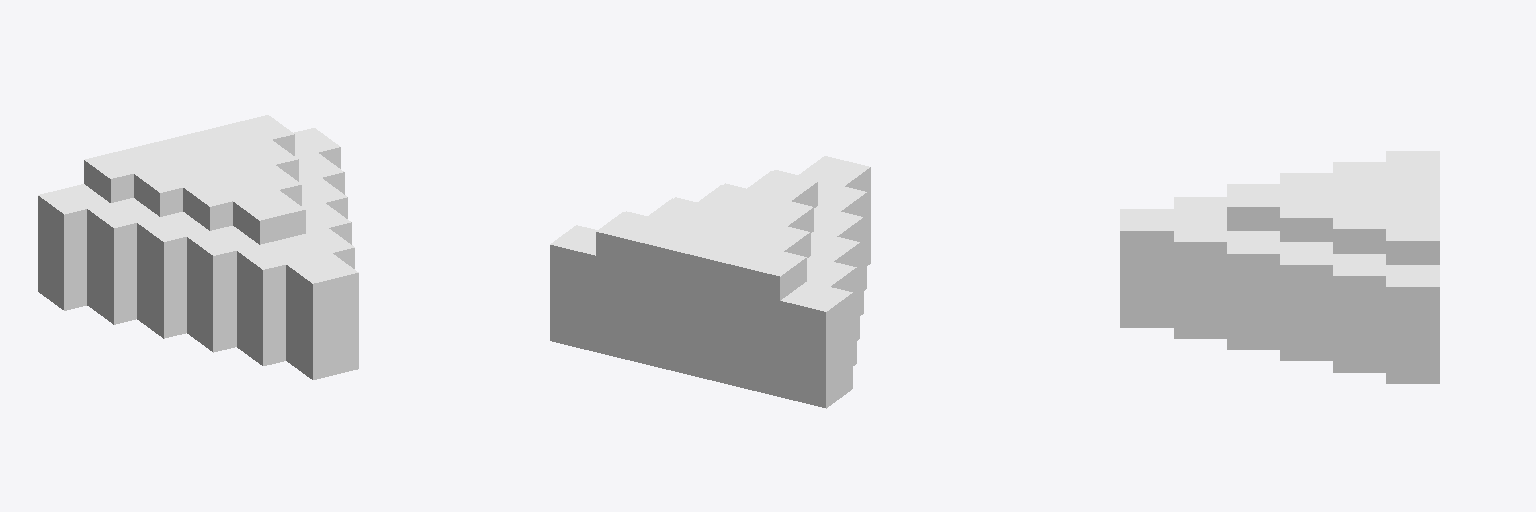
File: arrow_1.obj
3 views of the same model, side by side, from view 1: azimuth 30°, elevation 25°; view 2: azimuth 150°, elevation 25°; view 3: azimuth 270°, elevation 25° (orthographic).
Parts seen in each view (by area): view 1: object 1; view 2: object 1; view 3: object 1.
Boxes of the visible parts, box(x1,y1,x2,y2) form: object 1: box(38, 115, 358, 379); object 1: box(550, 156, 870, 408); object 1: box(1120, 151, 1439, 383).
Size of the model in its own units: 1.2 by 0.5 by 1.2.